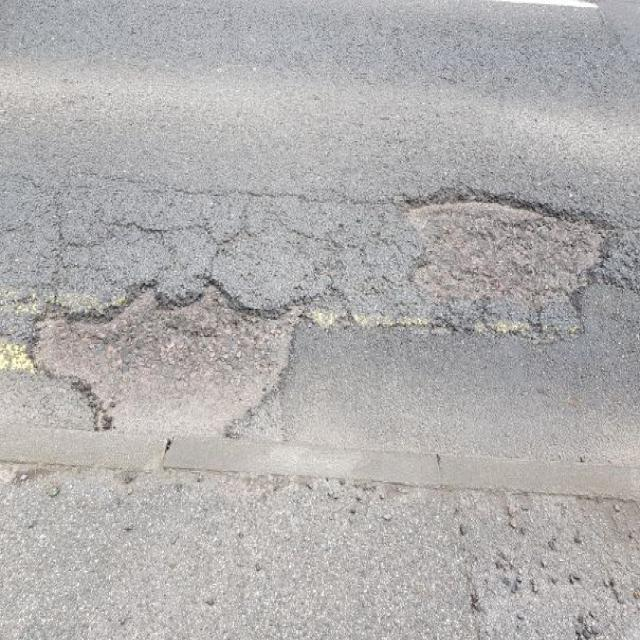Pothole: (24, 263, 309, 437), (392, 183, 619, 341)
